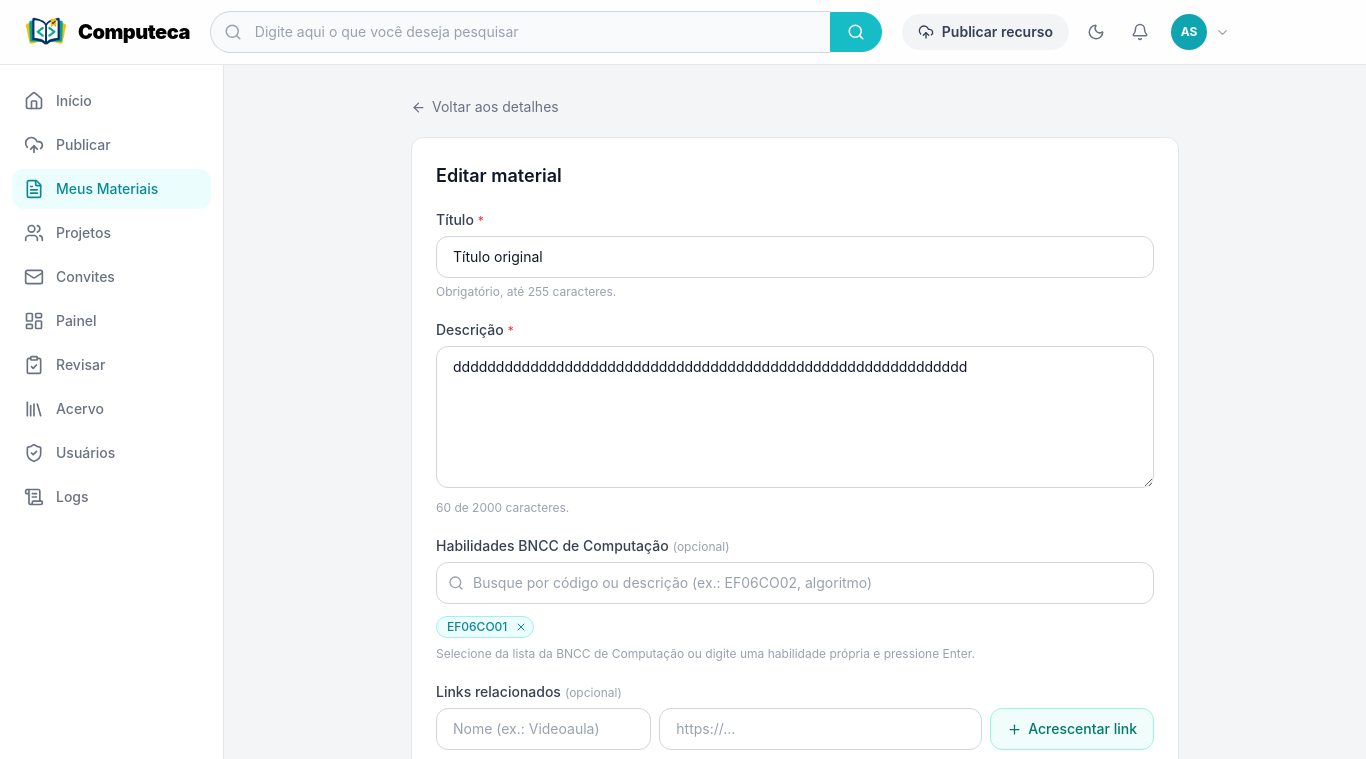
Test: MaterialEditPage › impede salvar com título vazio
The width and height of the screenshot is (1366, 759).
Clear the field labelled "Título*": (795, 257) [436, 236, 1154, 278]
(page scrolled)
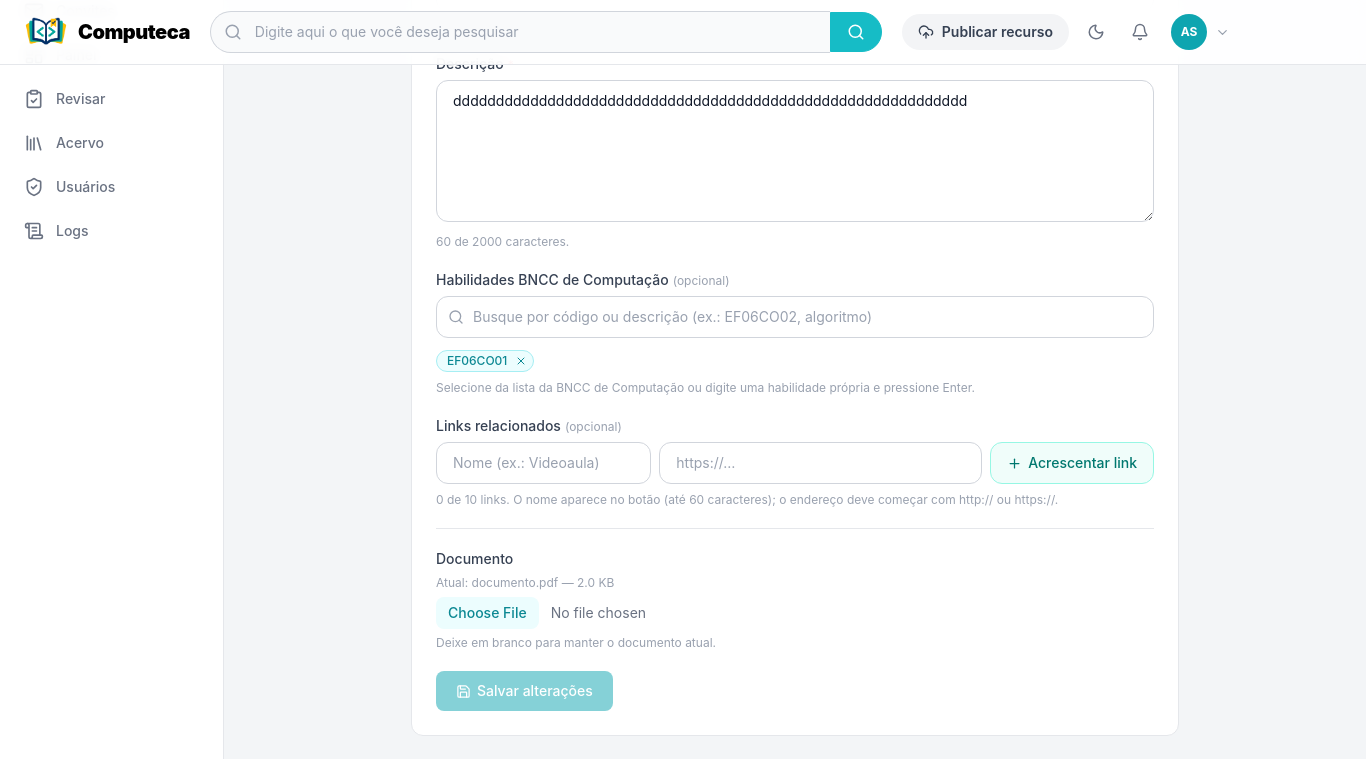
Now the button "Salvar alterações" is disabled, box [436, 671, 613, 711]
